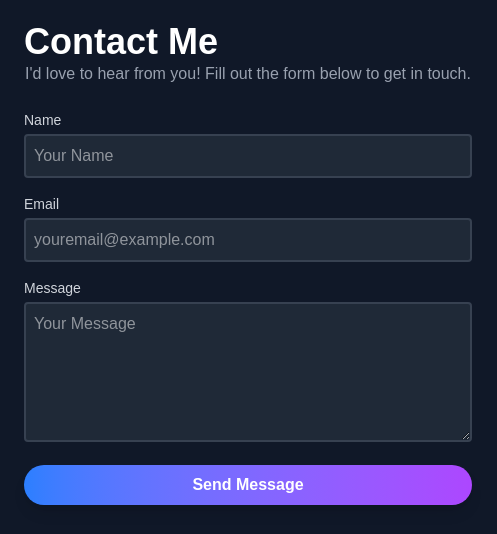
displays server error message if API returns an error
The image size is (497, 534).
Type "Bob" into the field labelled "Name" at (248, 156), box [24,134,472,178]
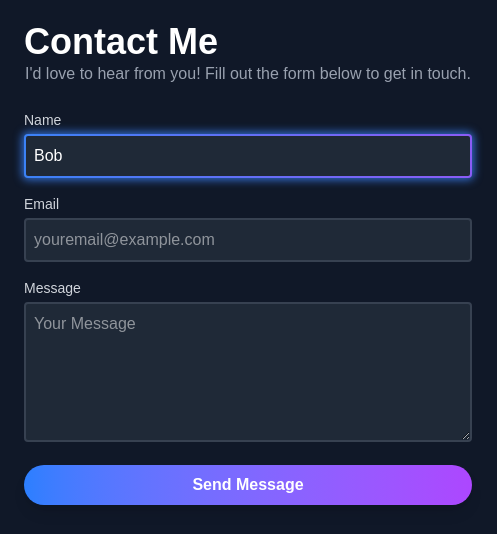
Type "bob@example.com" into the field labelled "Email" at (248, 240), box [24,218,472,262]
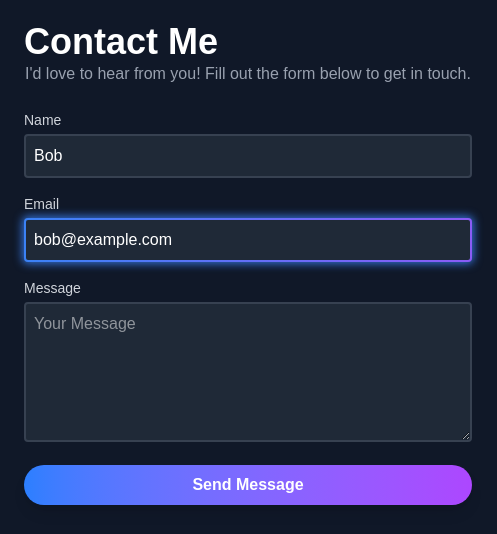
Type "Hi" into the text box labelled "Message" at (248, 372), box [24,302,472,442]
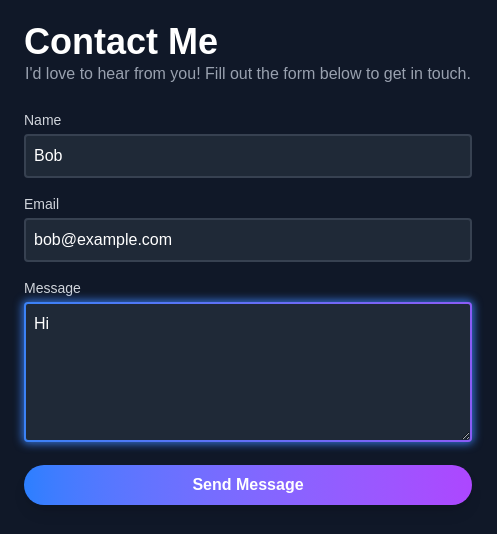
Click the button "Send Message" at (248, 484), box [24,464,472,504]
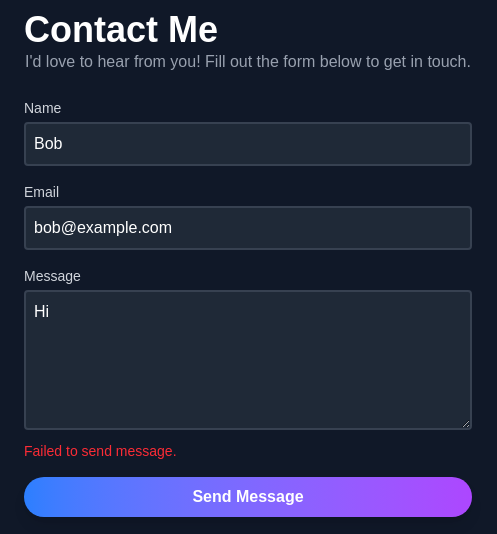
Check: the text "Failed to send message." is shown, box [24,442,176,458]
